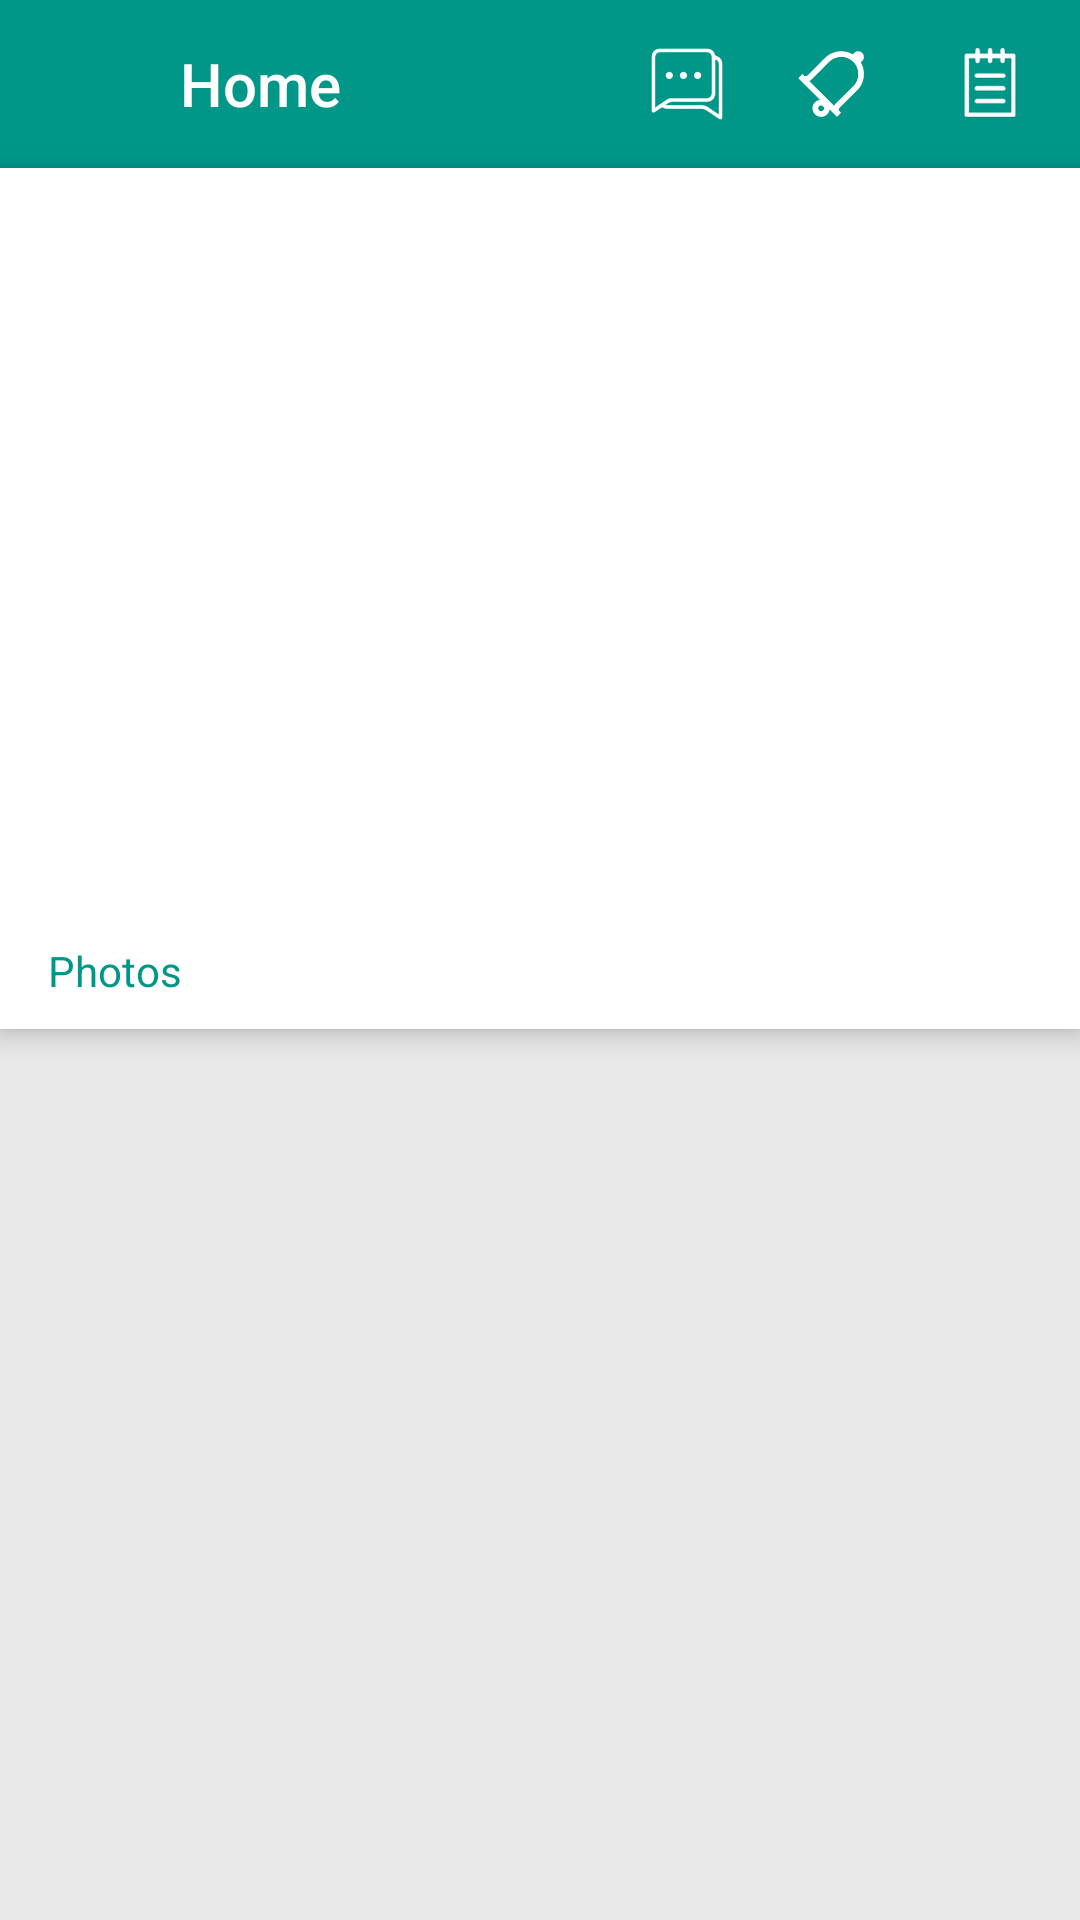

Point at icon controls on the screen. Image size 1080 × 1920, points as (x=x, y=y).
bell: (x=831, y=84)
feedback: (x=687, y=84)
